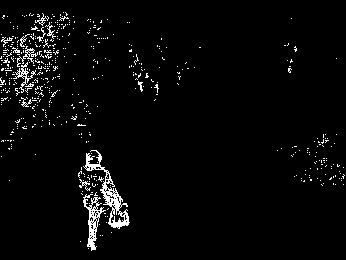person: (78, 147, 131, 250)
